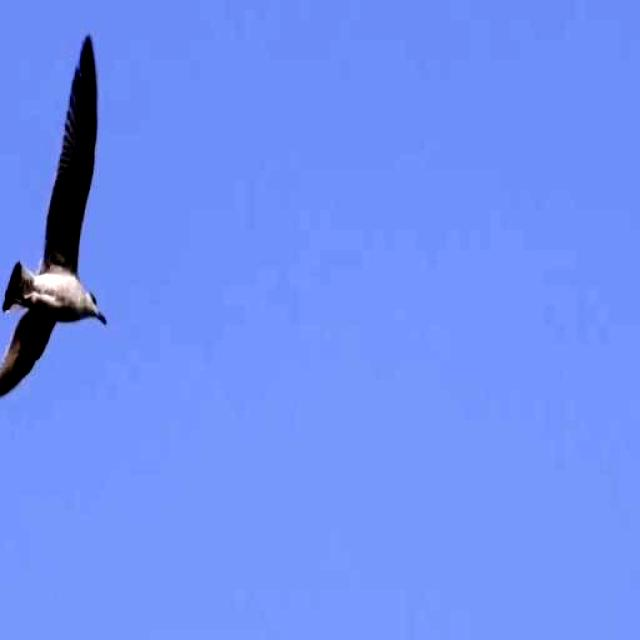airplane: (0, 30, 112, 409)
